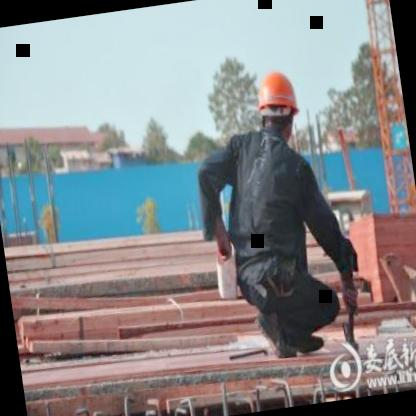helmet: (247, 63, 306, 144)
